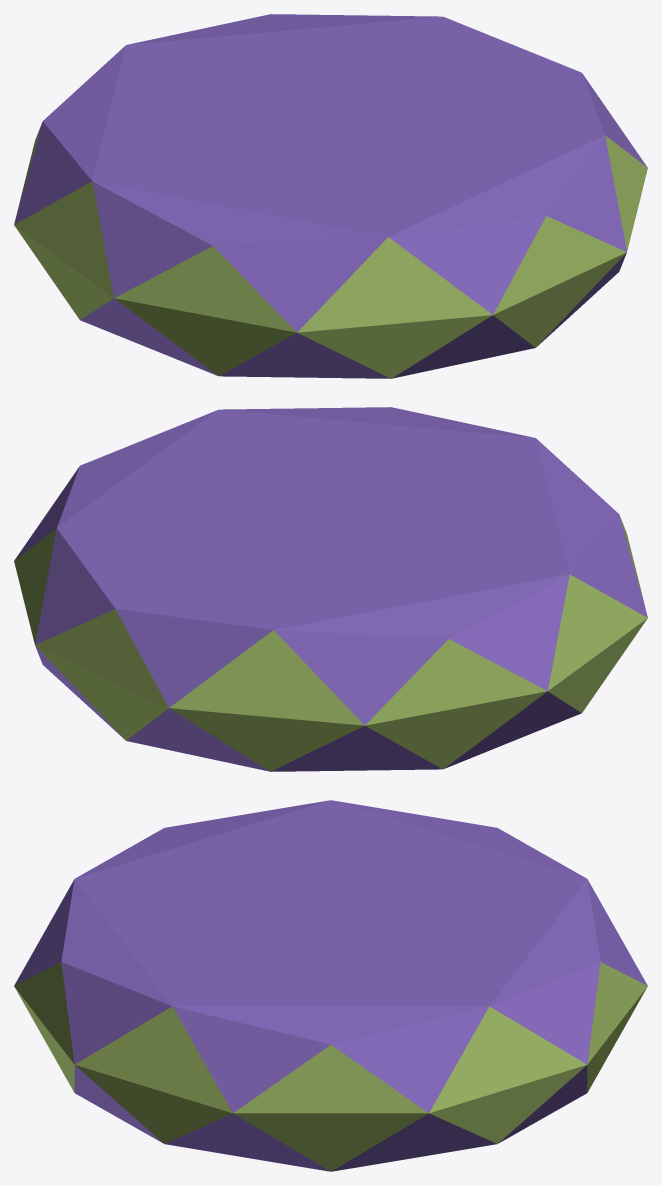
File: bouncerplatform.glb
The picture shows the model from 3 angles, top to bottom: view 1: azimuth 30°, elevation 25°; view 2: azimuth 150°, elevation 25°; view 3: azimuth 270°, elevation 25°; orthographic projection. The views are drawn at different scales.
Visible parts, largest first — view 1: Icosphere; view 2: Icosphere; view 3: Icosphere.
Boxes of the visible parts, x1,y1,x2,y2 form: Icosphere: (14, 14, 647, 378); Icosphere: (14, 407, 647, 771); Icosphere: (14, 800, 647, 1171).
Bounding box in the file's own units: 2.85 × 0.7508 × 3.
